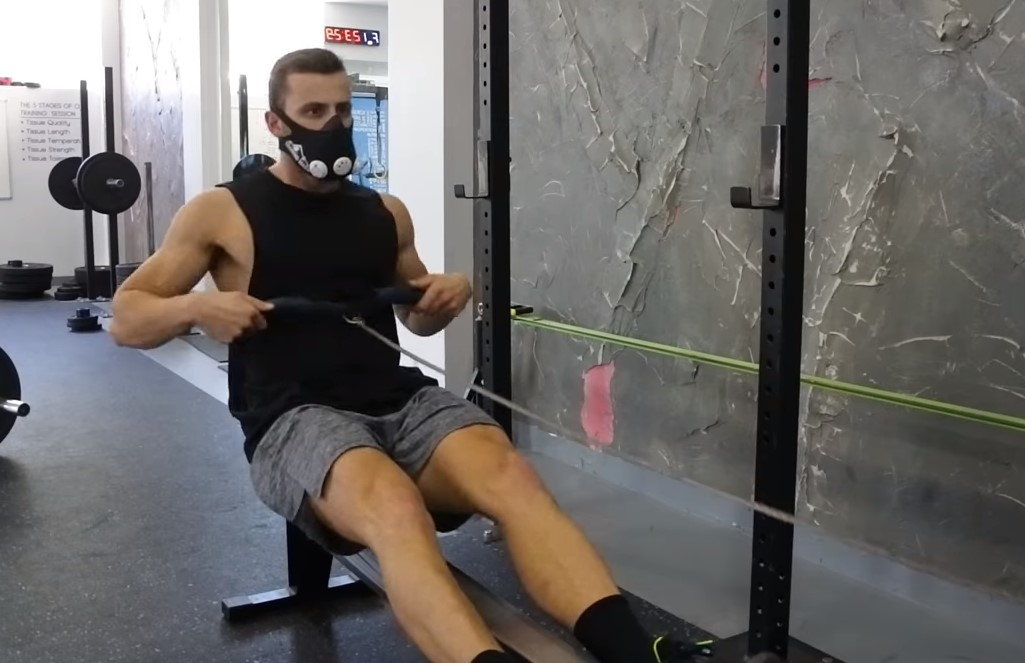face_with_mask: (265, 50, 357, 184)
